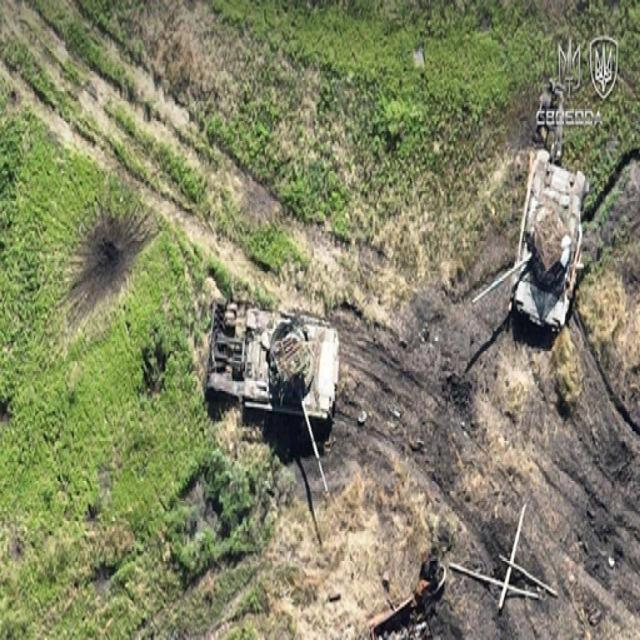TANK: (196, 284, 339, 502), (472, 142, 588, 340)
